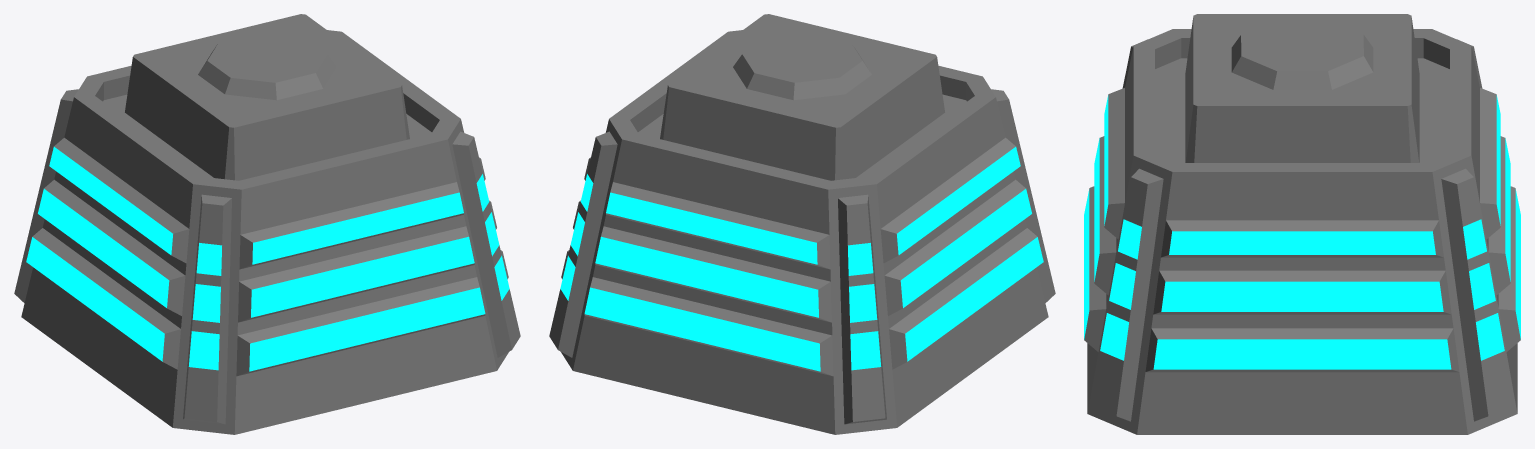
3 views of the same model, side by side, from view 1: azimuth 30°, elevation 25°; view 2: azimuth 150°, elevation 25°; view 3: azimuth 270°, elevation 25° (orthographic). The views are drawn at different scales.
Parts seen in each view (by area): view 1: Base3; view 2: Base3; view 3: Base3.
Part boxes in pixels (x1=…): Base3: x1=14, y1=14, x2=520, y2=434; Base3: x1=549, y1=14, x2=1055, y2=434; Base3: x1=1084, y1=14, x2=1520, y2=434.
Bounding box in the file's own units: 81.24 × 61.33 × 81.24.
